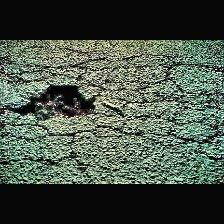pothole: (5, 82, 96, 122)
